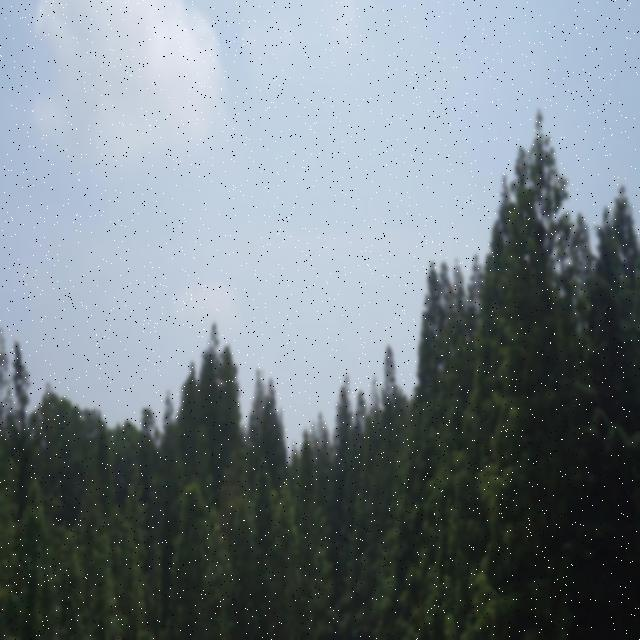UAV: (215, 378, 226, 389)
